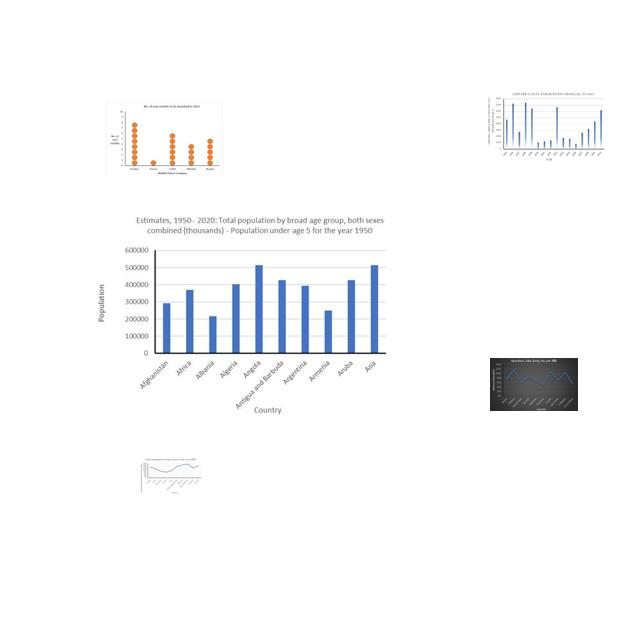Graph: (93, 212, 394, 417), (106, 102, 223, 178), (486, 91, 606, 162), (490, 358, 578, 411), (140, 458, 202, 494)
